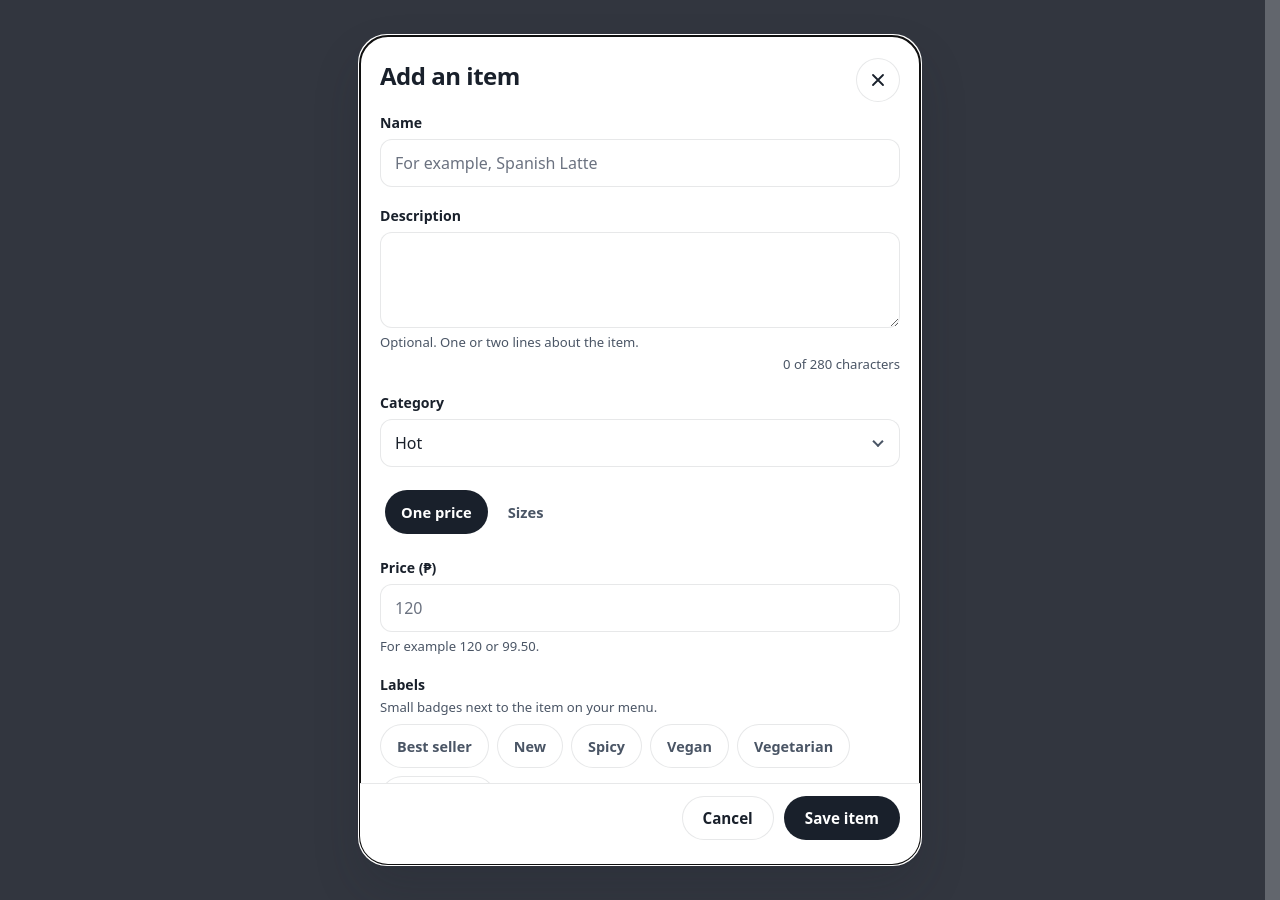
it: ProductEditor: adding an item › counts the characters of the description
Expected: the text "0 of 280 characters" is shown, [783, 355, 900, 373]
Type "Rich" into the text box labelled "Description" at (640, 280), box [380, 232, 900, 328]
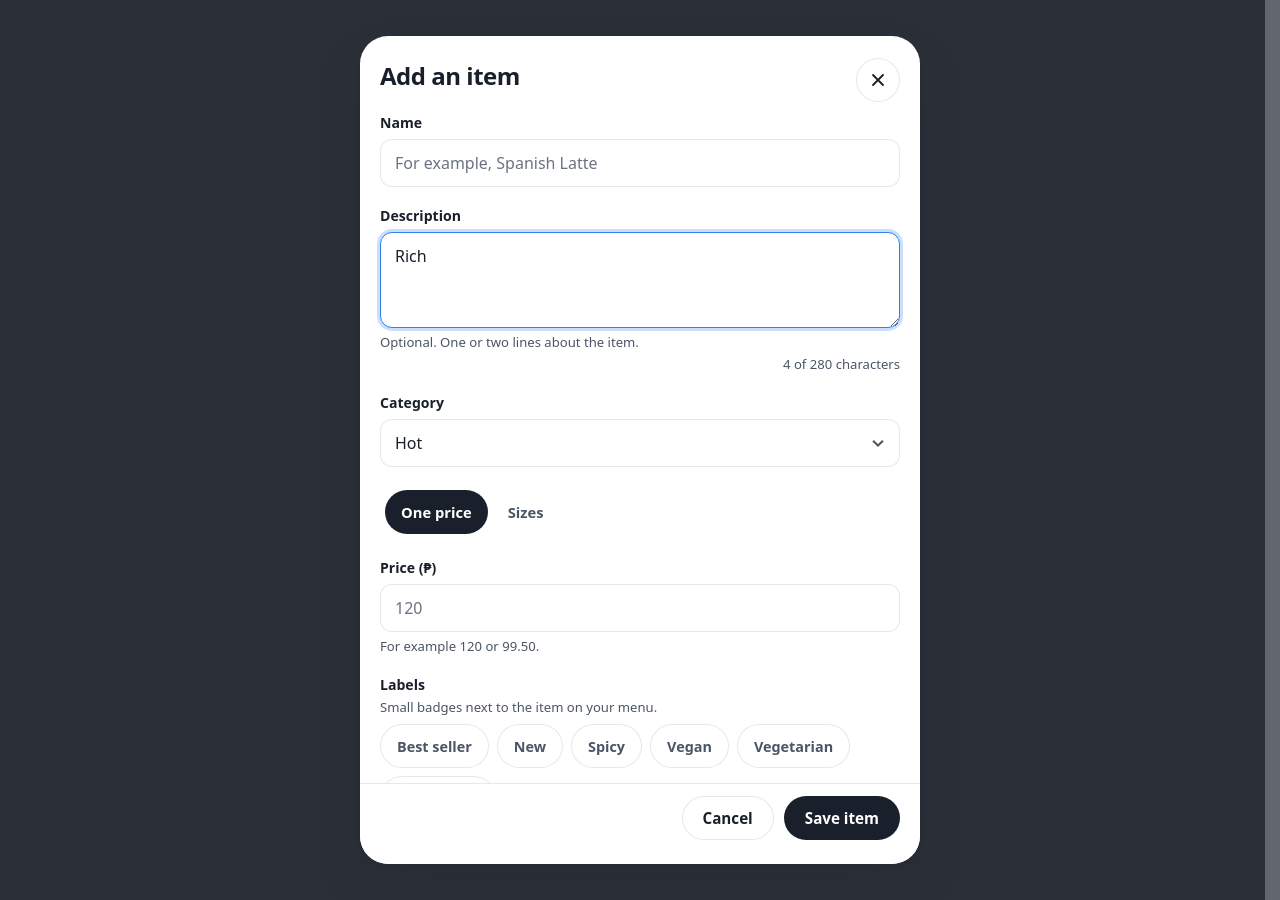
Expected: the text "4 of 280 characters" is shown, [783, 355, 900, 373]
